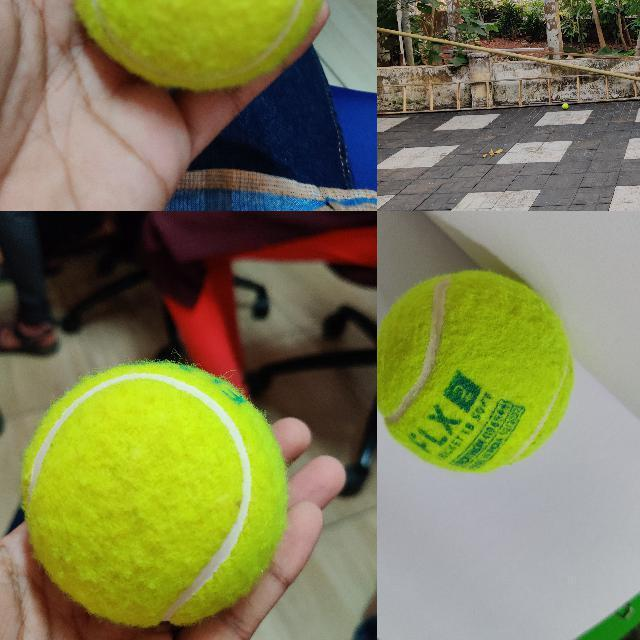tennis-ball: (22, 363, 286, 625), (377, 269, 577, 476), (68, 0, 330, 90), (562, 103, 568, 109)
